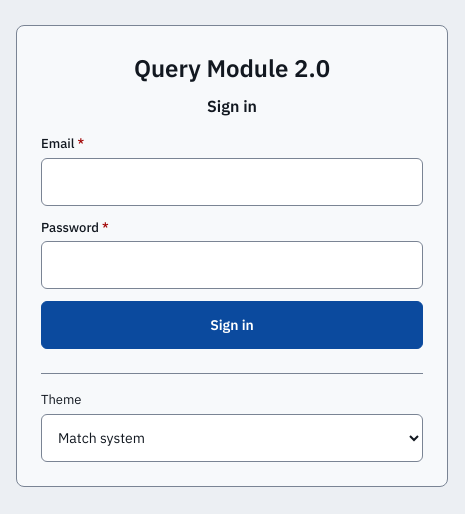
Test: BR-002 standalone sign-in screen (spec 5.6, 6.2) › shows the limiter wait time
The width and height of the screenshot is (465, 514).
Step 1. Type "tester@querymodule.test" into the field labelled "Email *" → (232, 182), box [41,158,423,206]
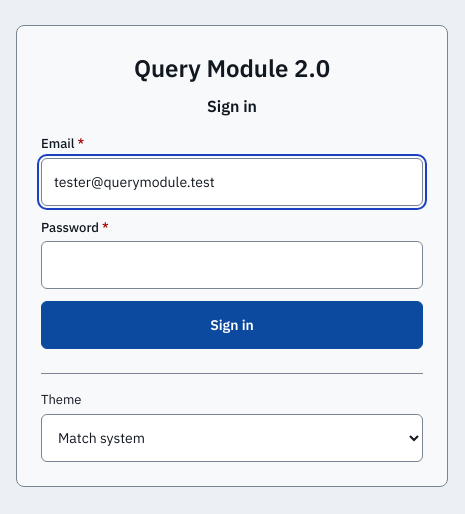
Step 2. Type "fixture-only-pass" into the password field labelled "Password *" → (232, 265), box [41,241,423,289]
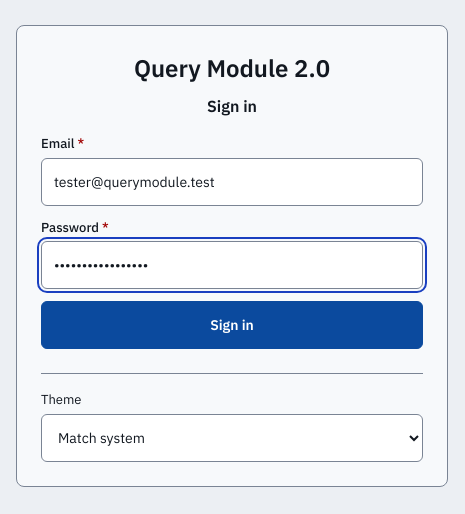
Step 3. Click the button "Sign in" → (232, 325), box [41,301,423,349]
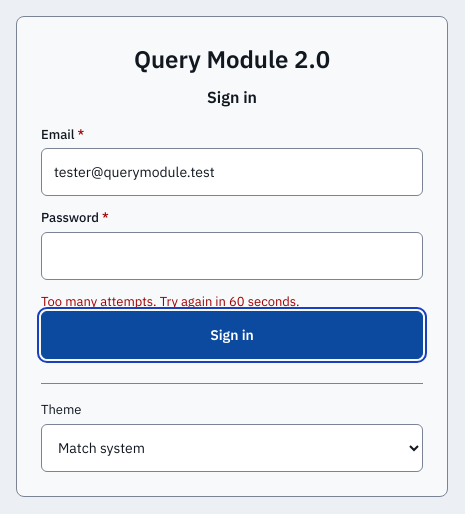
Check: the text "Too many attempts. Try again in 60 seconds." is shown, box [41,292,300,310]
